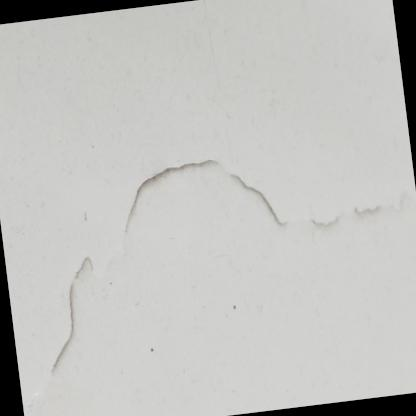Crack: (97, 114, 415, 297), (16, 232, 118, 410), (20, 380, 51, 415)
